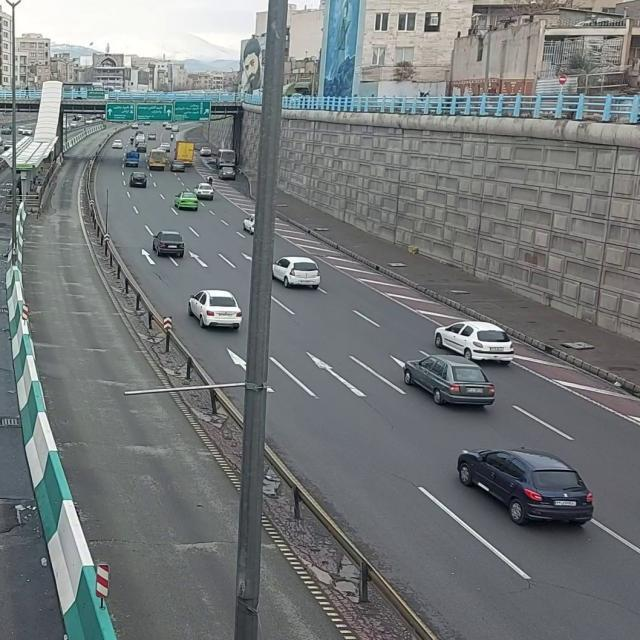Car: (458, 448, 596, 527), (404, 354, 496, 408), (435, 322, 517, 358), (187, 288, 243, 332), (273, 253, 323, 293), (150, 230, 187, 260), (175, 190, 202, 212)
